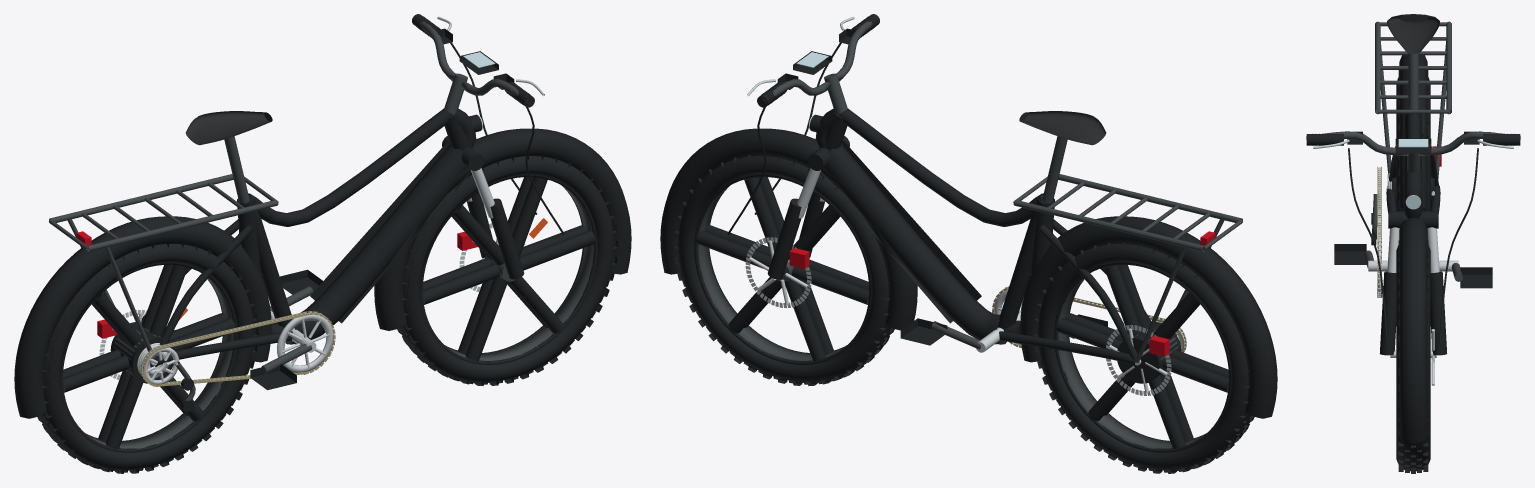
The model's file is fiido-titan.glb.
3 views of the same model, side by side, from view 1: azimuth 30°, elevation 25°; view 2: azimuth 150°, elevation 25°; view 3: azimuth 270°, elevation 25° (orthographic). The views are drawn at different scales.
Parts seen in each view (by area): view 1: Bodywork | black, FrontWheel | rubber, RearWheel | rubber, FrontWheel | black, RearWheel | black, Chassis | black, BatteryMount | black, Bodywork | graphite, Drive | steel, FrontWheel | graphite, Fork | black, RearWheel | graphite (+9 smaller); view 2: Bodywork | black, FrontWheel | rubber, RearWheel | rubber, FrontWheel | black, RearWheel | black, Chassis | black, BatteryMount | black, Bodywork | graphite, FrontWheel | graphite, Fork | black, RearWheel | graphite, Bodywork | seat (+9 smaller); view 3: Bodywork | black, Bodywork | graphite, Fork | black, FrontWheel | rubber, Chassis | black, Cockpit | rubber, Bodywork | seat, Drive | black, Cockpit | graphite, Fork | steel, Cockpit | black, RearWheel | rubber (+7 smaller).
Boxes of the visible parts, left/top/right/bottom form: Bodywork | black: left=14, top=114, right=631, bottom=418; FrontWheel | rubber: left=397, top=154, right=617, bottom=385; RearWheel | rubber: left=37, top=242, right=258, bottom=473; FrontWheel | black: left=421, top=174, right=597, bottom=364; RearWheel | black: left=61, top=262, right=237, bottom=452; Chassis | black: left=141, top=108, right=476, bottom=365; BatteryMount | black: left=285, top=140, right=471, bottom=344; Bodywork | graphite: left=49, top=174, right=278, bottom=359; Drive | steel: left=137, top=311, right=333, bottom=384; FrontWheel | graphite: left=445, top=186, right=594, bottom=360; Fork | black: left=442, top=136, right=524, bottom=279; RearWheel | graphite: left=85, top=278, right=233, bottom=448; Bodywork | black: left=660, top=114, right=1277, bottom=418; FrontWheel | rubber: left=674, top=154, right=894, bottom=385; RearWheel | rubber: left=1033, top=242, right=1254, bottom=473; FrontWheel | black: left=694, top=174, right=870, bottom=364; RearWheel | black: left=1054, top=262, right=1230, bottom=452; Chassis | black: left=815, top=108, right=1151, bottom=365; BatteryMount | black: left=820, top=140, right=1006, bottom=344; Bodywork | graphite: left=1013, top=174, right=1242, bottom=362; FrontWheel | graphite: left=697, top=186, right=846, bottom=360; Fork | black: left=767, top=136, right=849, bottom=279; RearWheel | graphite: left=1058, top=278, right=1205, bottom=448; Bodywork | seat: left=1019, top=111, right=1106, bottom=145; Bodywork | black: left=1399, top=55, right=1427, bottom=443; Bodywork | graphite: left=1375, top=21, right=1451, bottom=178; Fork | black: left=1379, top=211, right=1447, bottom=355; FrontWheel | rubber: left=1396, top=240, right=1430, bottom=473; Chassis | black: left=1386, top=113, right=1440, bottom=218; Cockpit | rubber: left=1306, top=134, right=1520, bottom=348; Bodywork | seat: left=1387, top=14, right=1439, bottom=53; Drive | black: left=1334, top=213, right=1492, bottom=288; Cockpit | graphite: left=1306, top=131, right=1520, bottom=172; Fork | steel: left=1387, top=227, right=1439, bottom=272; Cockpit | black: left=1312, top=131, right=1514, bottom=153; RearWheel | rubber: left=1396, top=70, right=1430, bottom=211.
Size of the model in its own units: 2.08 by 1.07 by 0.6634.
